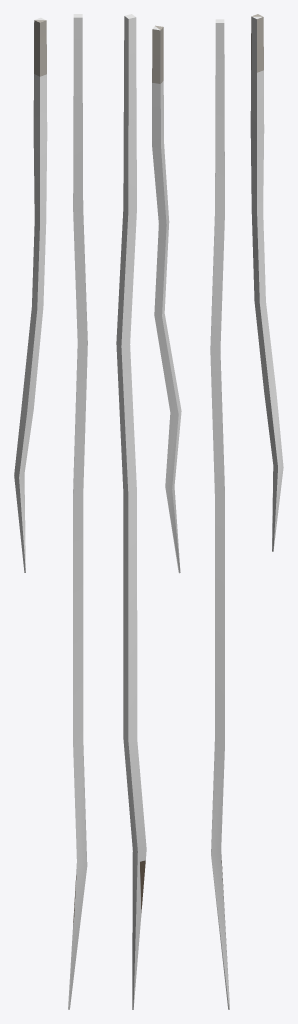
Rendered from synty-tree-vines-03.gltf.
3 renders of one model, left to right at view 1: azimuth 90°, elevation 25°; view 2: azimuth 210°, elevation 25°; view 3: azimuth 270°, elevation 25°, orthographic.
Visible parts, largest first — view 1: SM_Tree_Vines_03; view 2: SM_Tree_Vines_03; view 3: SM_Tree_Vines_03.
Boxes of the visible parts, x1,y1,x2,y2 form: SM_Tree_Vines_03: [14, 14, 87, 1009]; SM_Tree_Vines_03: [116, 14, 181, 1009]; SM_Tree_Vines_03: [210, 14, 283, 1009].
Size of the model in its own units: 0.1881 by 5.09 by 0.3416.
1 material, 1 textured.
